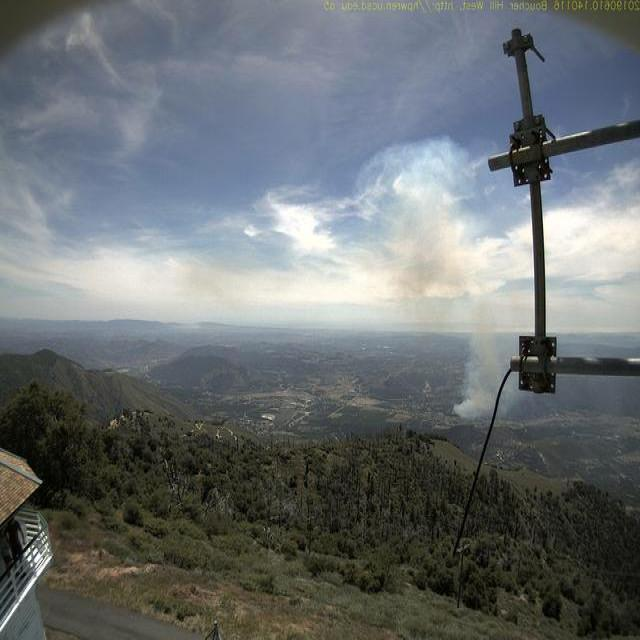smoke: (353, 135, 523, 429)
